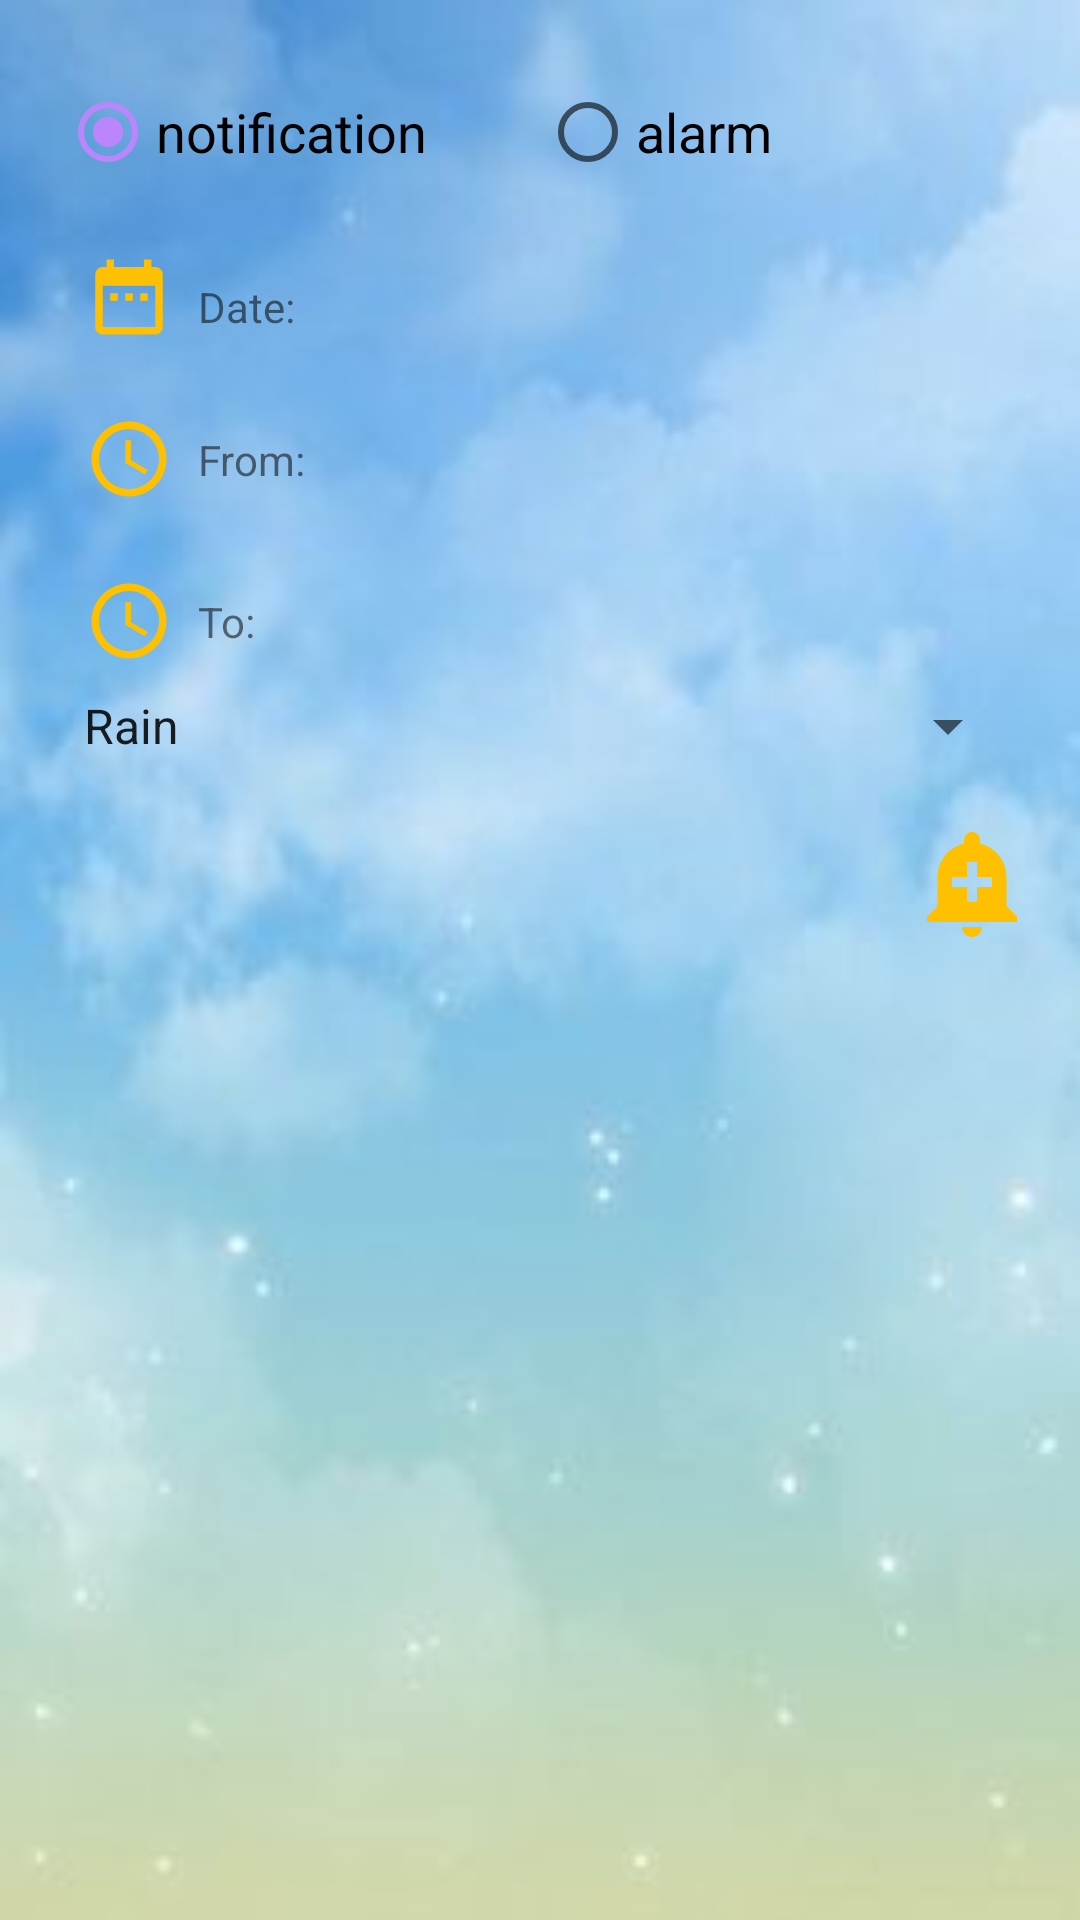

Where icons sit on this 1080×1920 app screen, as rect(x1, y1, x2, y2):
add alert: rect(927, 832, 1017, 937)
time: rect(91, 421, 167, 497), rect(91, 583, 167, 659)
